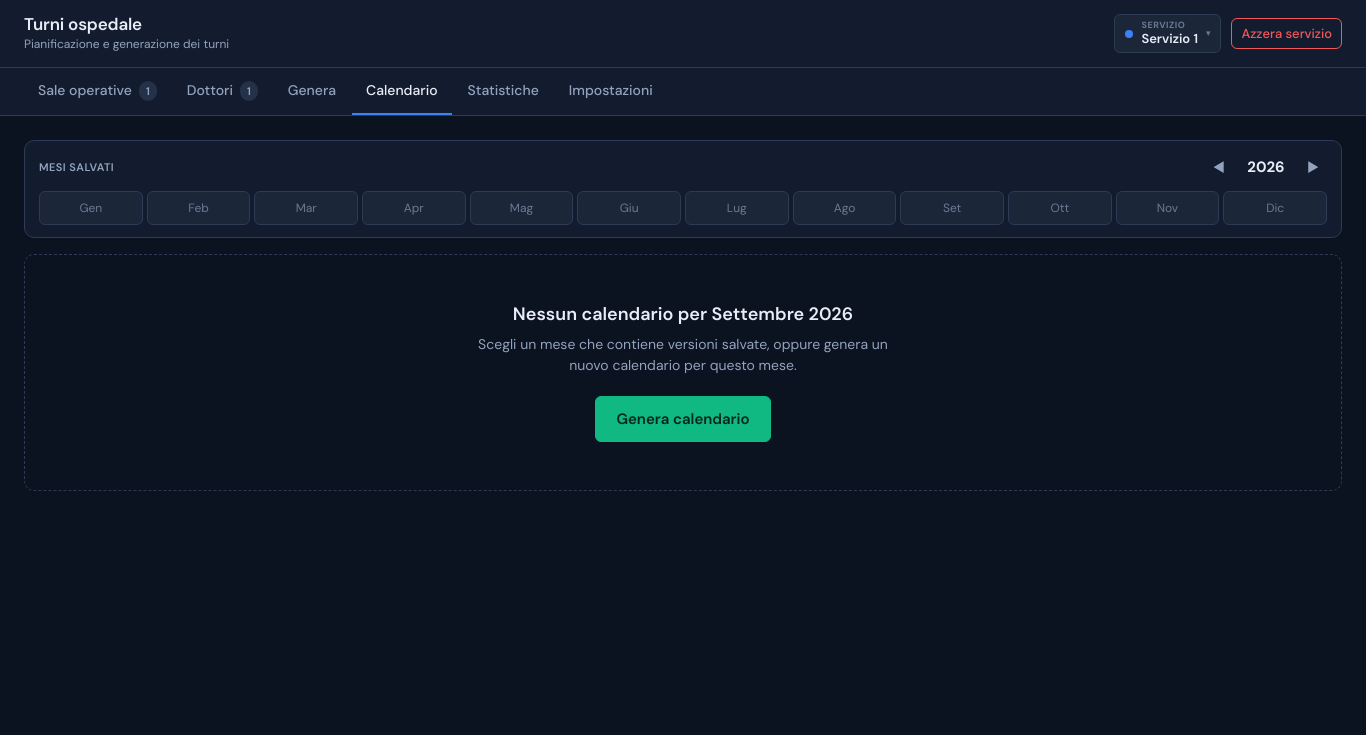
it: servizi separati › apre un nuovo servizio senza i dati del precedente
Expected: the button "Dottori 1" is shown, [173,68,272,115]
Step 1. Click the button "Impostazioni" → (611, 92), box [555,68,667,115]
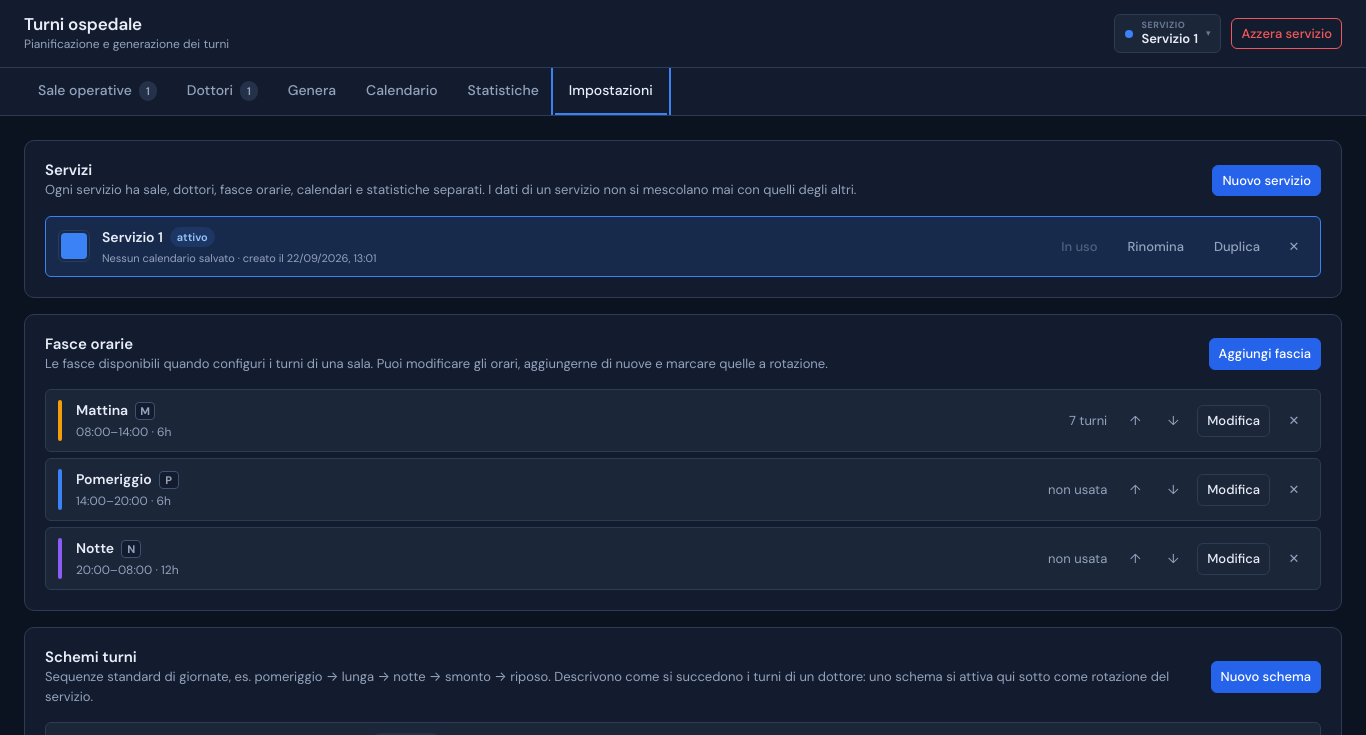
Step 2. Click the button "Nuovo servizio" → (1267, 180), box [1212,165,1321,196]
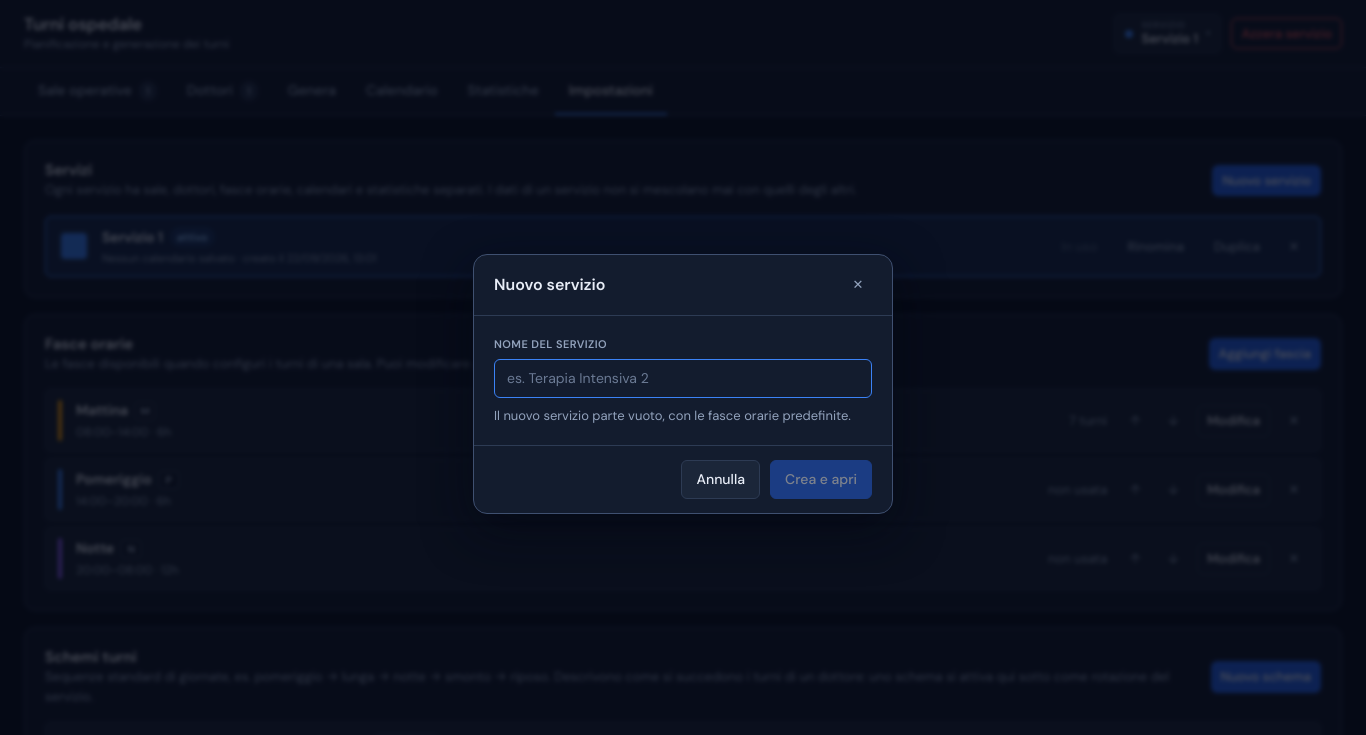
Step 3. Type "Terapia Intensiva 2" into the field labelled "Nome del servizio" → (683, 378), box [494,358,872,398]
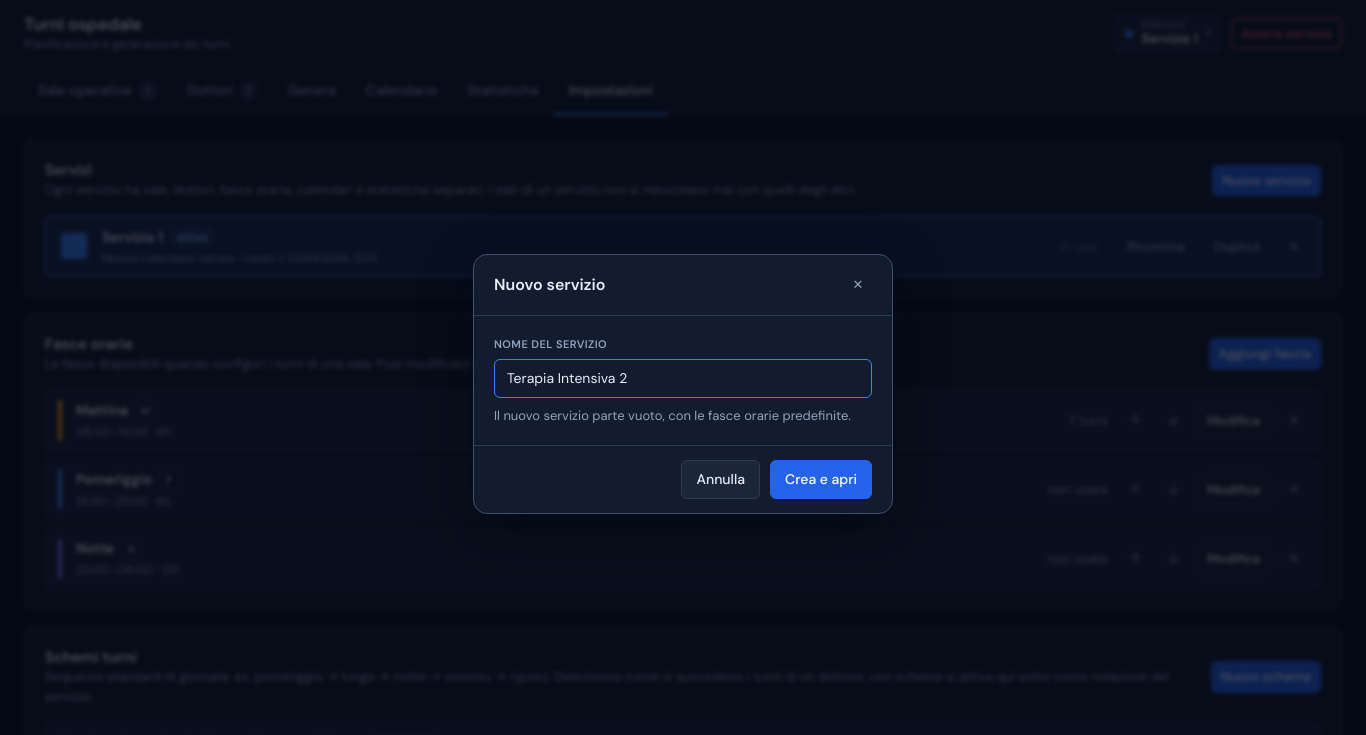
Step 4. Click the button "Crea e apri" → (821, 480), box [770,460,872,499]
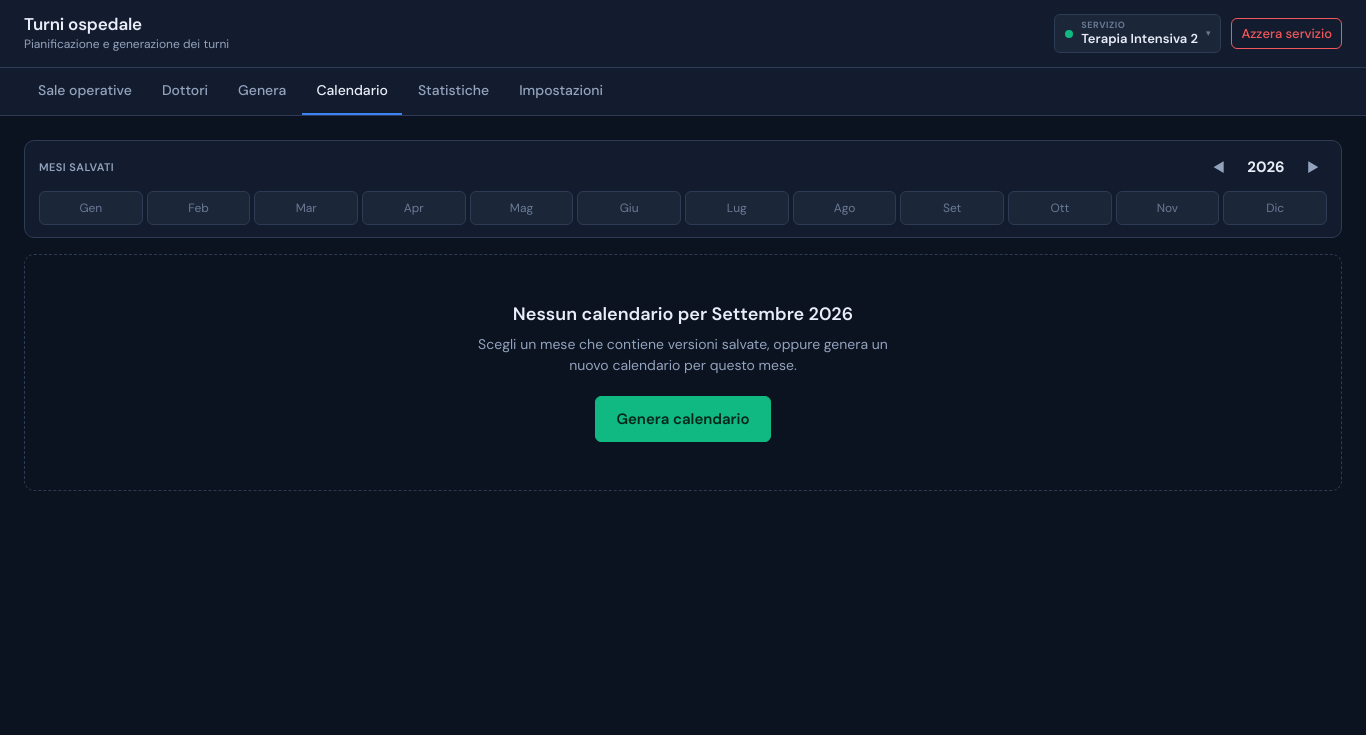
Expected: the button titled "Cambia servizio" shows "Terapia Intensiva 2", [1054,14,1222,53]
Step 5. Click the button "Dottori" → (185, 92), box [148,68,222,115]
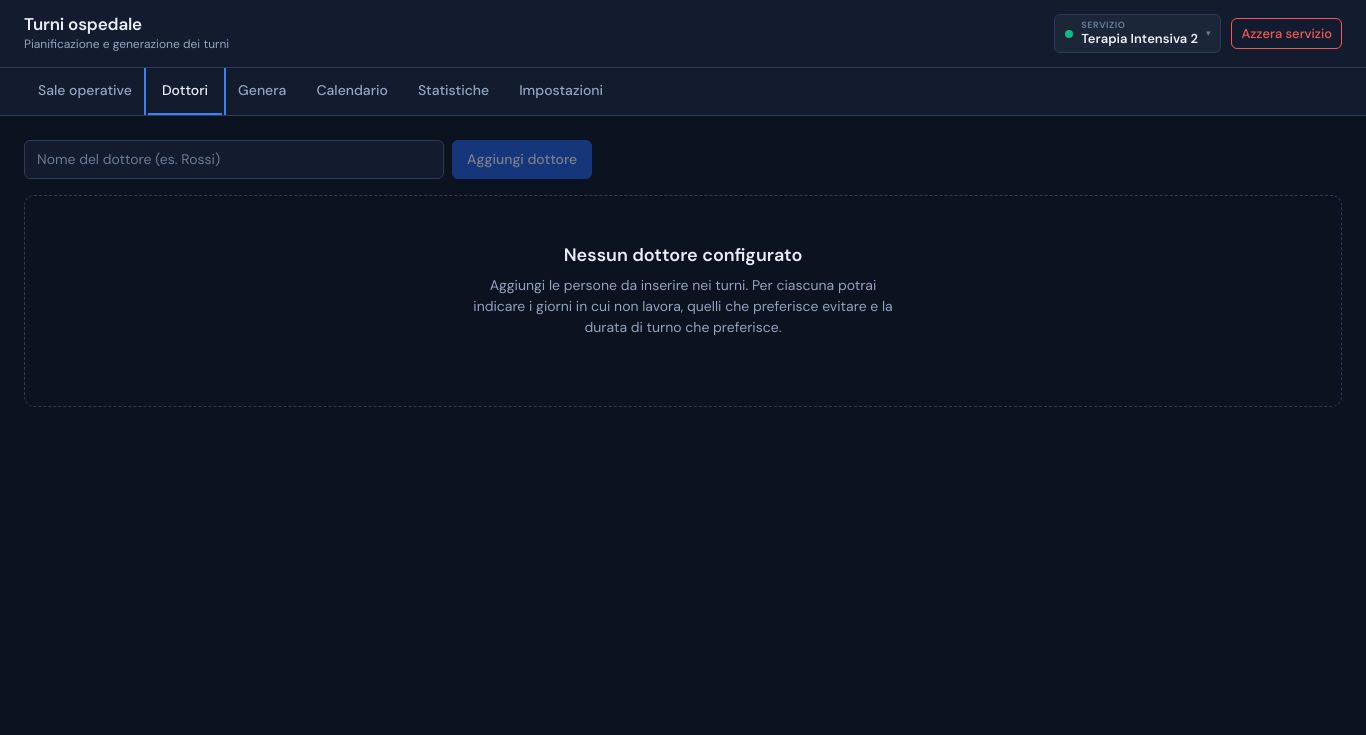
Expected: the heading "Nessun dottore configurato" is shown, [564,243,802,267]
